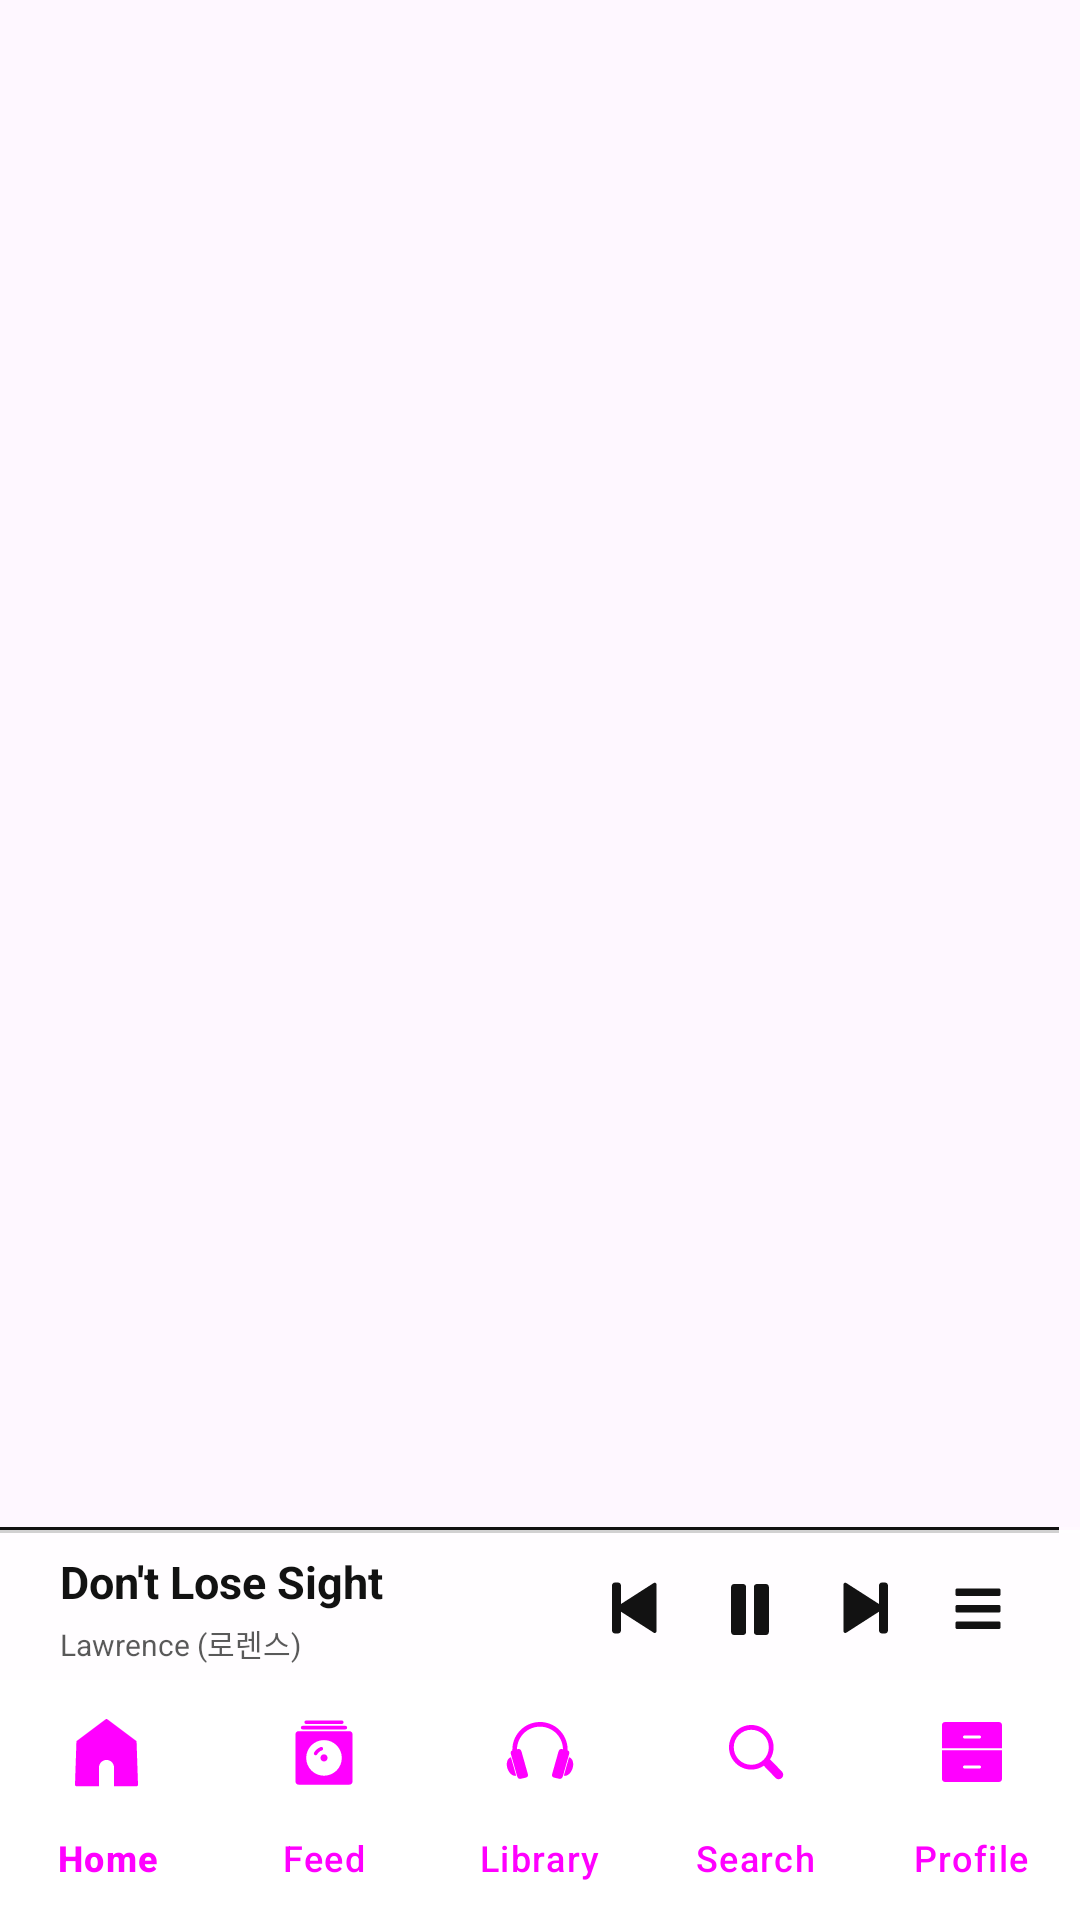

Named icons in this screenshot (1080 x 1920) and their bounding boxes, (x1, y1, x2, y2):
controller next music: (843, 1582, 888, 1634)
controller pause: (731, 1584, 769, 1635)
controller play list: (955, 1588, 1001, 1629)
controller previous music: (612, 1582, 657, 1634)
